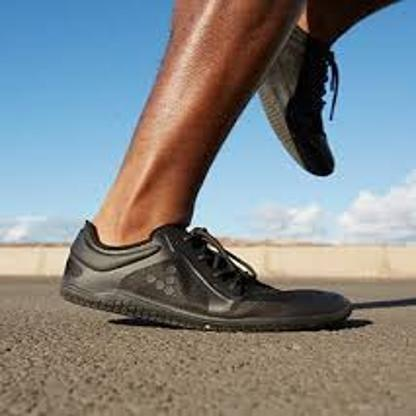not trash: (59, 219, 351, 333), (248, 13, 339, 177)
